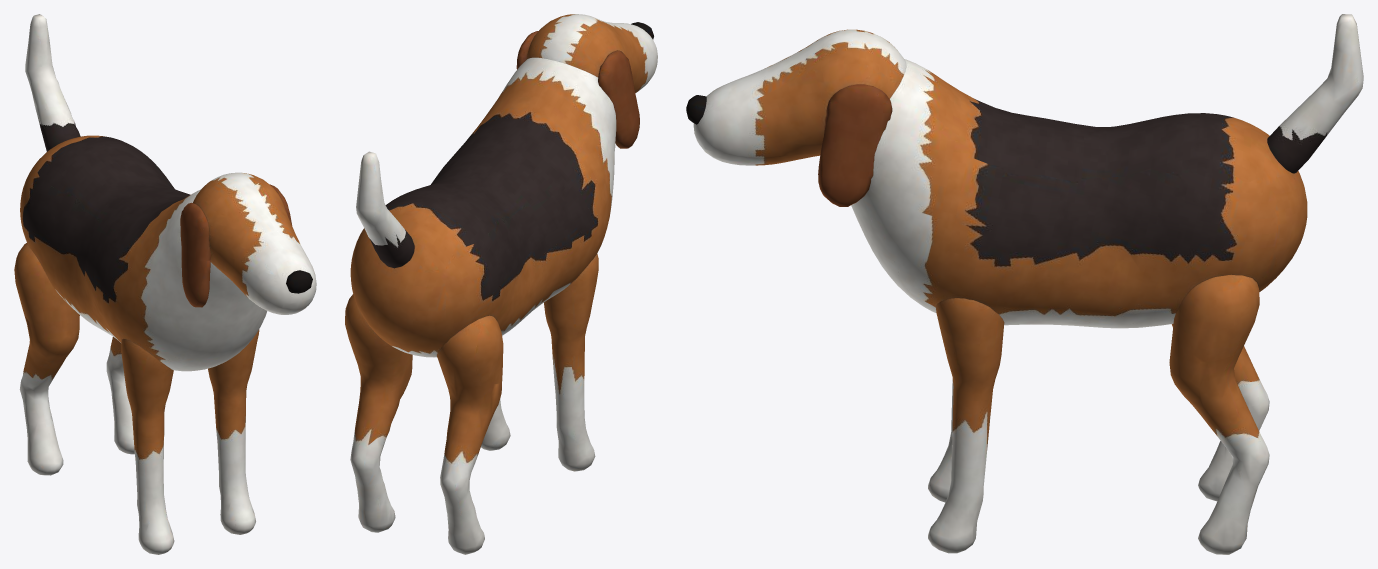
Rendered from animal_dog.glb.
The picture shows the model from 3 angles, left to right: view 1: azimuth 30°, elevation 25°; view 2: azimuth 150°, elevation 25°; view 3: azimuth 270°, elevation 25°; orthographic projection. The views are drawn at different scales.
Parts seen in each view (by area): view 1: animal_dog, head, leg2, leg0, leg1, tail, leg3; view 2: animal_dog, leg2, head, leg3, leg0, tail, leg1; view 3: animal_dog, head, leg3, leg1, tail, leg2, leg0.
Boxes of the visible parts, x1,y1,x2,y2 form: animal_dog: (20, 135, 267, 371); head: (180, 172, 316, 314); leg2: (14, 243, 79, 475); leg0: (121, 339, 174, 554); leg1: (208, 329, 259, 534); tail: (25, 14, 80, 151); leg3: (106, 337, 134, 454); animal_dog: (350, 57, 616, 357); leg2: (437, 315, 503, 554); head: (516, 14, 657, 148); leg3: (345, 294, 412, 532); leg0: (544, 254, 598, 471); tail: (356, 151, 414, 268); leg1: (481, 399, 510, 450); animal_dog: (851, 59, 1307, 328); head: (686, 29, 906, 206); leg3: (1169, 274, 1269, 554); leg1: (928, 298, 1004, 553); tail: (1267, 14, 1363, 173); leg2: (1171, 323, 1269, 501); leg0: (928, 380, 953, 502).
Size of the model in its own units: 0.1231 by 0.3361 by 0.4039.
1 material, 1 textured.
